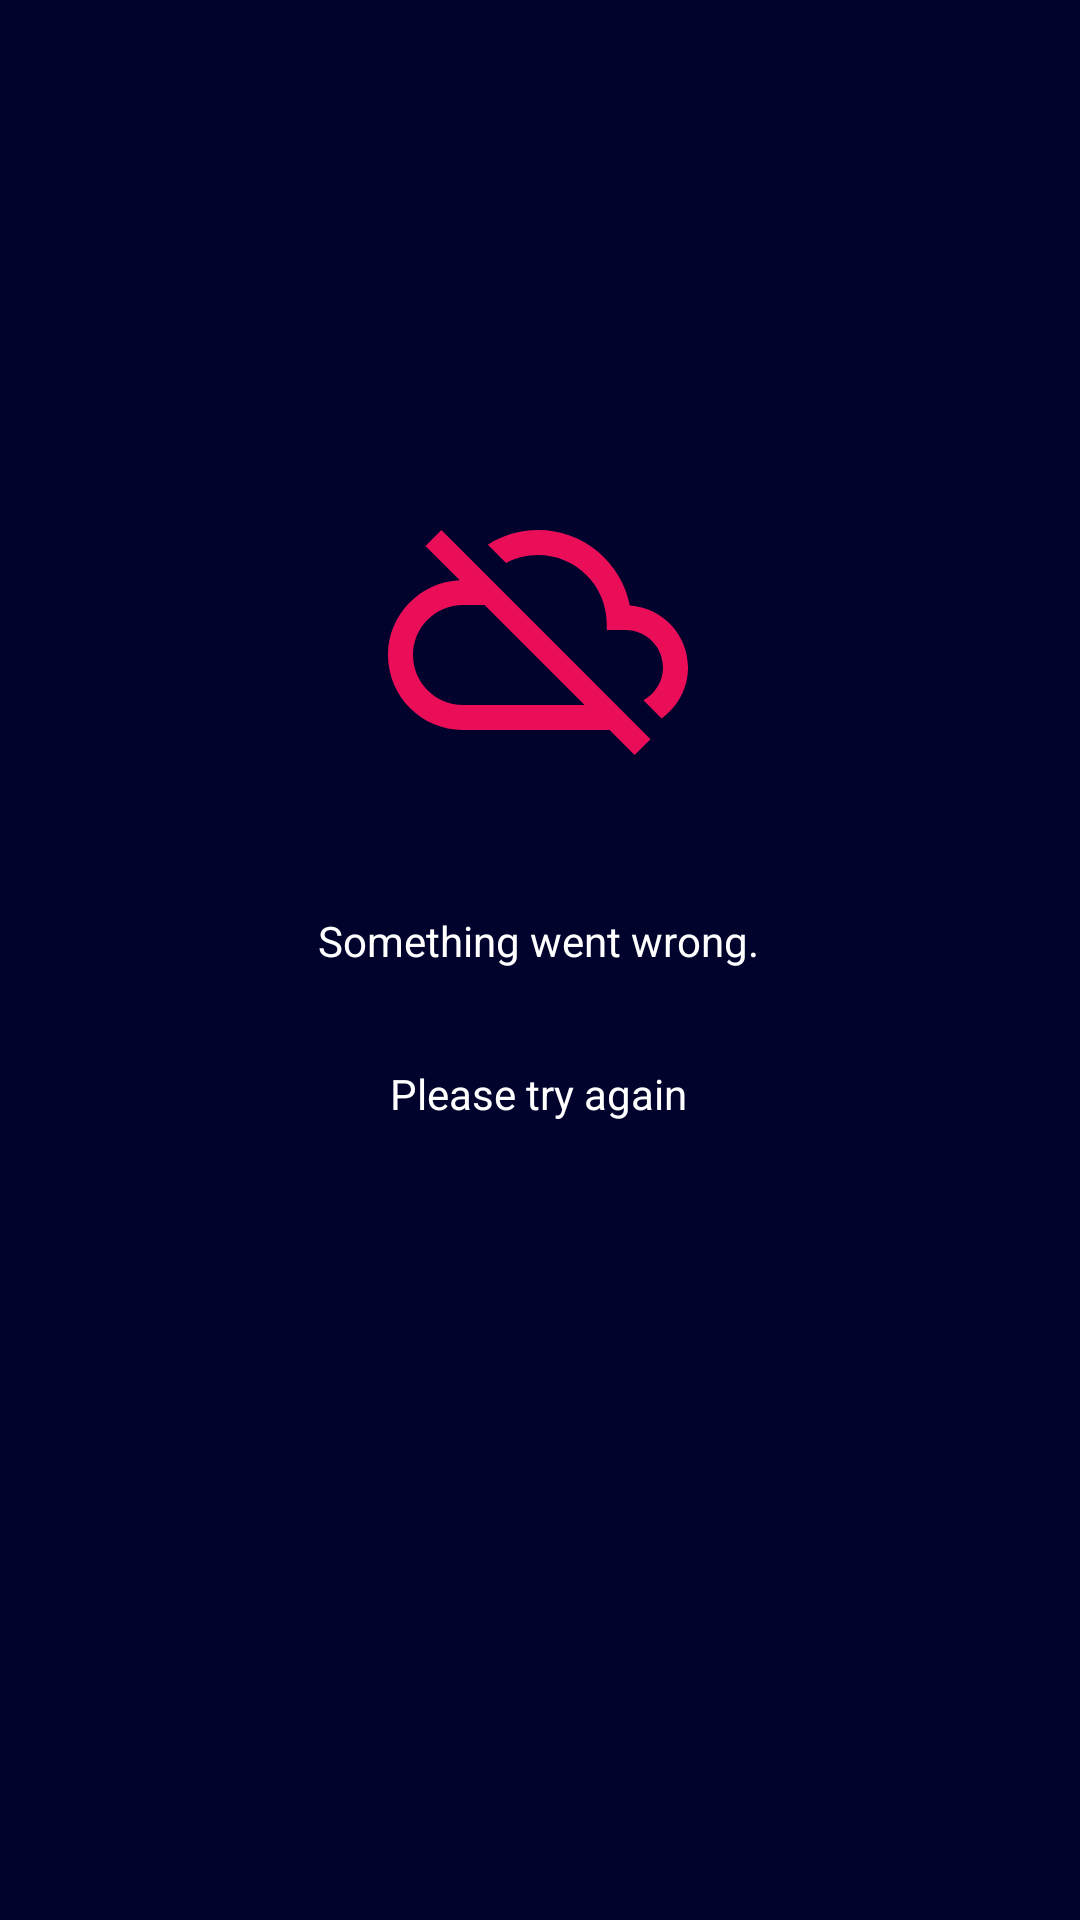

Where to tap for icons on this 1080px x 1920px app screen, as (x,y):
cloud off: (538,642)
